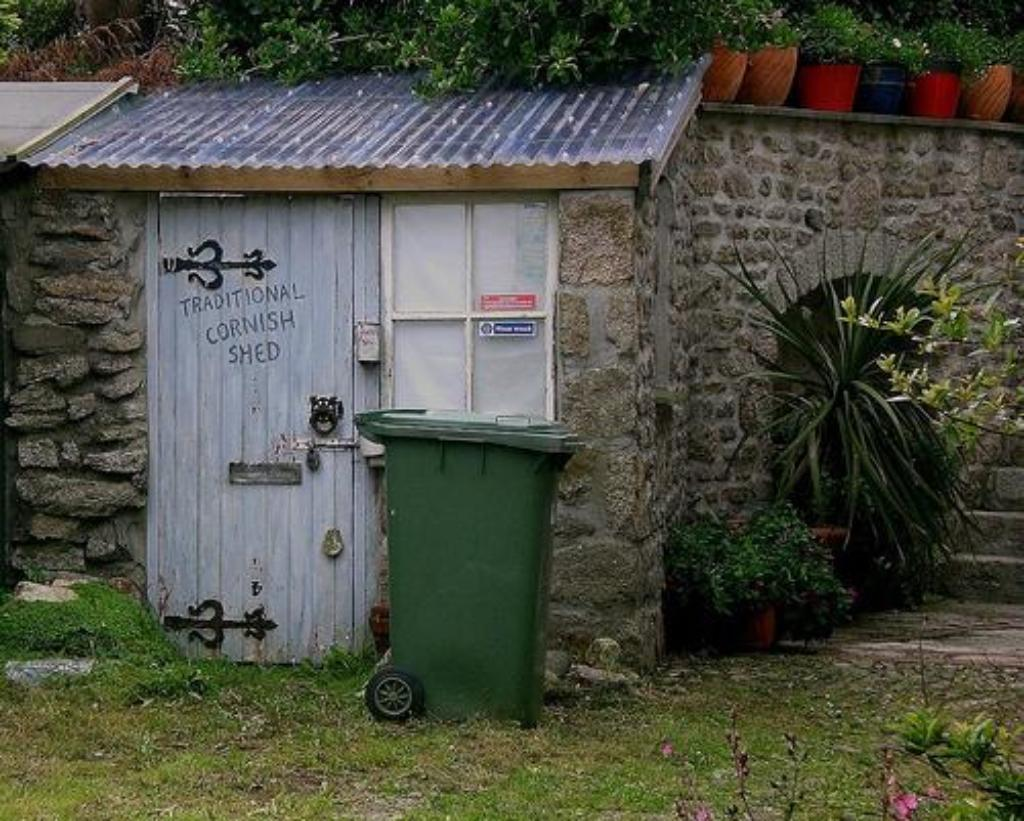dustbin: (361, 401, 581, 733)
